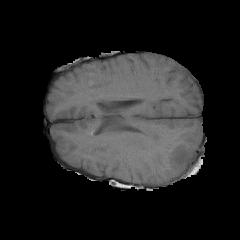glioma: (152, 135, 197, 171)
